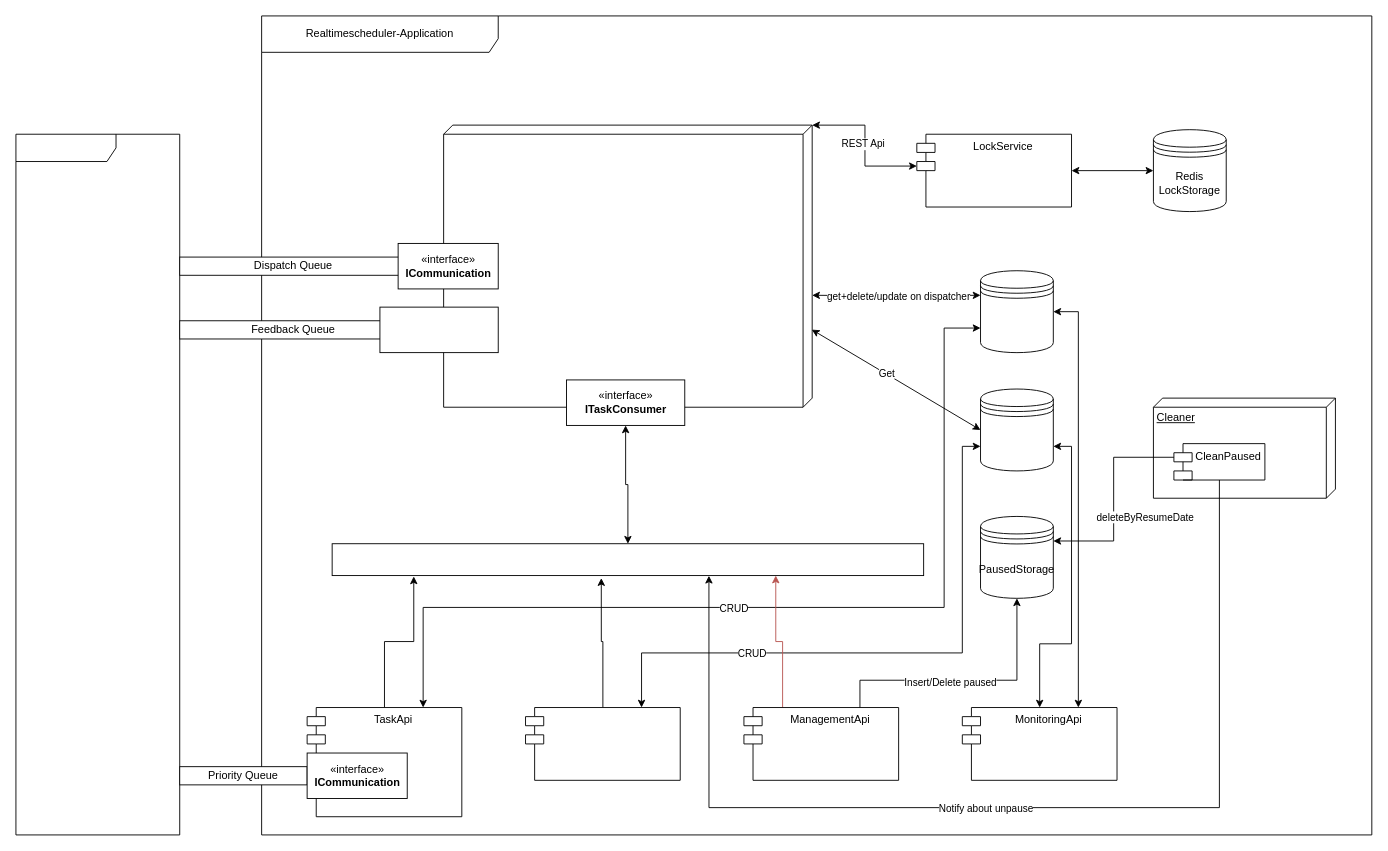
This 1388x851 diagram has some shape labels left out. Here are the shapes that lost their labels. From the top down, the box of each, then its label:
(443, 124, 812, 407): Scheduler-Instance
(379, 306, 498, 353): «interface» IFeedbackConsumer
(980, 270, 1053, 353): TaskStorage
(980, 388, 1053, 471): GroupStorage
(15, 133, 180, 835): Dispatcher
(331, 543, 924, 576): Event Queue
(525, 707, 680, 780): GroupApi
